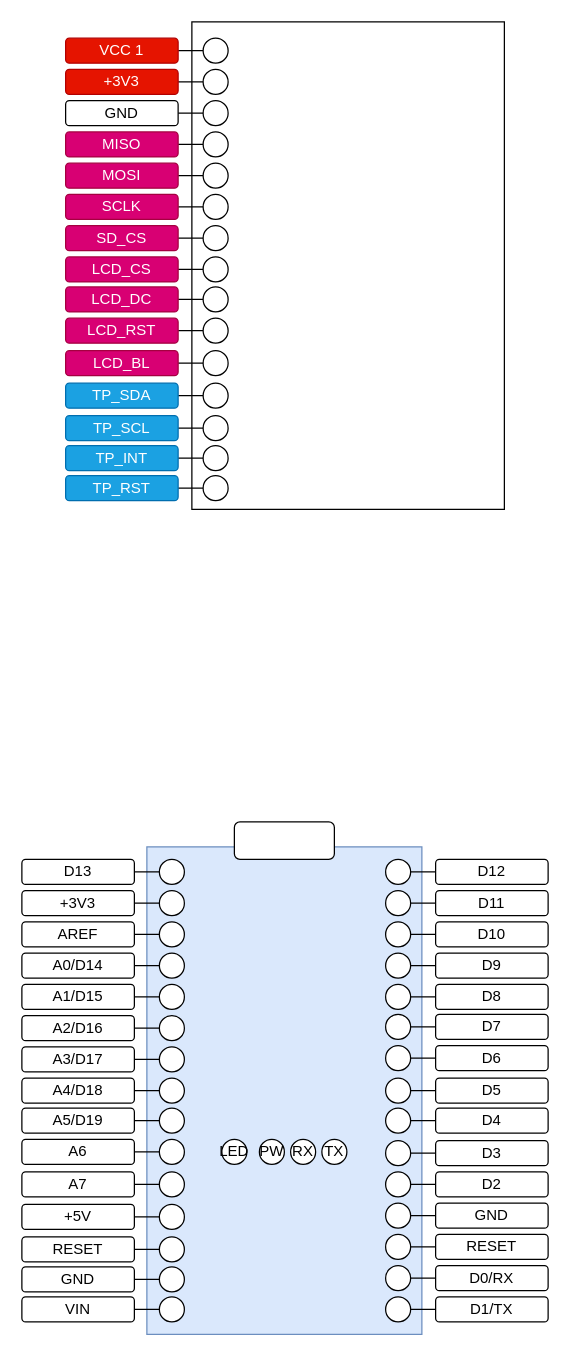
Image size: 570x1356. Some labels were removed from this diagram. The shapes that lost their labels are listed below. From the top down, each one's box as (x1, y1, x2, y2) in pixels, then its label:
(191, 21, 504, 509): Waveshare 3.5inch Touch LCD
(233, 821, 334, 859): USB C
(146, 846, 422, 1334): Arduino nano ESP32
